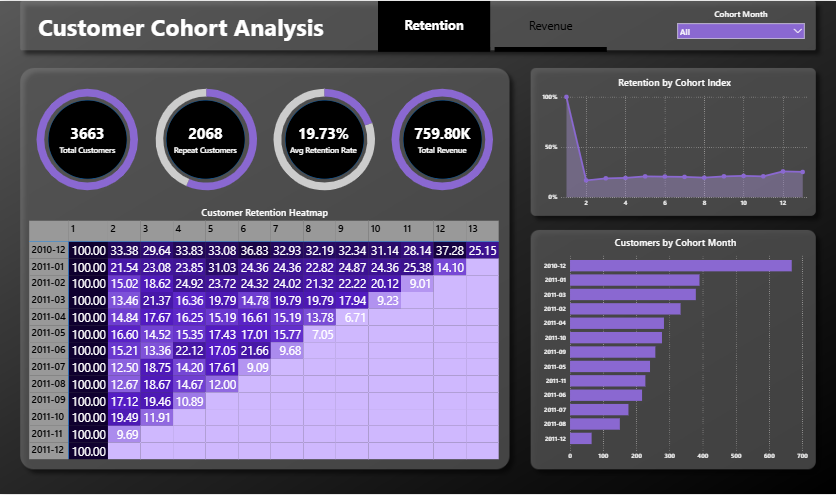

This screenshot's page, from the dashboard's own definition file:
{"tool":"powerbi","page":{"name":"Retention","canvas":[1900,1120],"ordinal":0},"visuals":[{"type":"pageNavigator","box":[859.5,0,521.4,112],"z":0,"group":"g1"},{"type":"shape","box":[378,225,180,180],"z":0},{"type":"pageNavigator","box":[859.5,104.8,521.4,11.9],"z":1000,"group":"g1"},{"type":"donutChart","title":"Repeat vs One-Time Customers","fields":{"Y":["cohort_index_table.Repeat Customers","cohort_index_table.One Time Customers"]},"box":[287.8,166.3,360.4,297.9],"z":1000},{"type":"card","fields":{"Values":["cohort_index_table.Repeat Customers"]},"box":[377.8,255.5,178.1,117],"z":2000},{"type":"shape","box":[647,225,180,180],"z":3000},{"type":"shape","box":[916,225,180,180],"z":4000},{"type":"shape","box":[109,225,180,180],"z":5000},{"type":"donutChart","title":"Repeat vs One-Time Customers","fields":{"Y":["cohort_index_table.Average Retention","cohort_index_table.Help"]},"box":[556.5,166.3,360.4,297.9],"z":6000},{"type":"donutChart","title":"Repeat vs One-Time Customers","fields":{"Y":["cohort_index_table.Total Customers"]},"box":[19,166.3,360.4,297.9],"z":7000},{"type":"donutChart","title":"Repeat vs One-Time Customers","fields":{"Y":["cohort_index_table.Total Revenue"]},"box":[825.2,166.3,360,297.9],"z":8000},{"type":"card","fields":{"Values":["cohort_index_table.Average Retention"]},"box":[646.5,255.5,178.1,117],"z":9000},{"type":"card","fields":{"Values":["cohort_index_table.Total Customers"]},"box":[109.1,255.5,178.1,117],"z":10000},{"type":"card","fields":{"Values":["cohort_index_table.Total Revenue"]},"box":[915.3,255.5,178.1,117],"z":11000},{"type":"pivotTable","title":"Customer Retention Heatmap","fields":{"Columns":["cohort_retention_table.CohortIndex"],"Values":["Sum(cohort_retention_table.RetentionRate)"],"Rows":["cohort_retention_table.CohortMonthFormatted"]},"box":[60.7,462.2,1081.2,591.7],"z":12000},{"type":"lineChart","title":"Retention by Cohort Index","fields":{"Category":["cohort_retention_table.CohortIndex"],"Y":["cohort_index_table.Average Retention"]},"box":[1228,167,612,314],"z":13000},{"type":"barChart","title":"Customers by Cohort Month","fields":{"Y":["cohort_index_table.Total Customers"],"Category":["cohort_index_table.CohortMonthFormatted"]},"box":[1228.8,530,612,523.9],"z":14000},{"type":"slicer","title":"Cohort Month","fields":{"Values":["cohort_index_table.CohortMonthFormatted"]},"box":[1529,17,309.3,86],"z":15000},{"type":"textbox","box":[81,16.7,676.2,102.4],"z":16000},{"type":"group","id":"g1","title":"Group 1","box":[859.5,0,521.4,116.7],"z":17000}]}

Visuals, with their boxes in screenshot pixels (x1, y1, x2, y2), scaled from the page's 1900x1120 canvas onto the 836x495 screenshot:
pageNavigator: <box>378,0,608,50</box>
shape: <box>166,99,246,179</box>
pageNavigator: <box>378,46,608,52</box>
"Repeat vs One-Time Customers" donutChart: <box>127,73,285,205</box>
card - cohort_index_table.Repeat Customers: <box>166,113,245,165</box>
shape: <box>285,99,364,179</box>
shape: <box>403,99,482,179</box>
shape: <box>48,99,127,179</box>
"Repeat vs One-Time Customers" donutChart: <box>245,73,403,205</box>
"Repeat vs One-Time Customers" donutChart: <box>8,73,167,205</box>
"Repeat vs One-Time Customers" donutChart: <box>363,73,521,205</box>
card - cohort_index_table.Average Retention: <box>284,113,363,165</box>
card - cohort_index_table.Total Customers: <box>48,113,126,165</box>
card - cohort_index_table.Total Revenue: <box>403,113,481,165</box>
"Customer Retention Heatmap" pivotTable: <box>27,204,502,466</box>
"Retention by Cohort Index" lineChart: <box>540,74,810,213</box>
"Customers by Cohort Month" barChart: <box>541,234,810,466</box>
"Cohort Month" slicer: <box>673,8,809,46</box>
textbox: <box>36,7,333,53</box>
"Group 1" group: <box>378,0,608,52</box>
